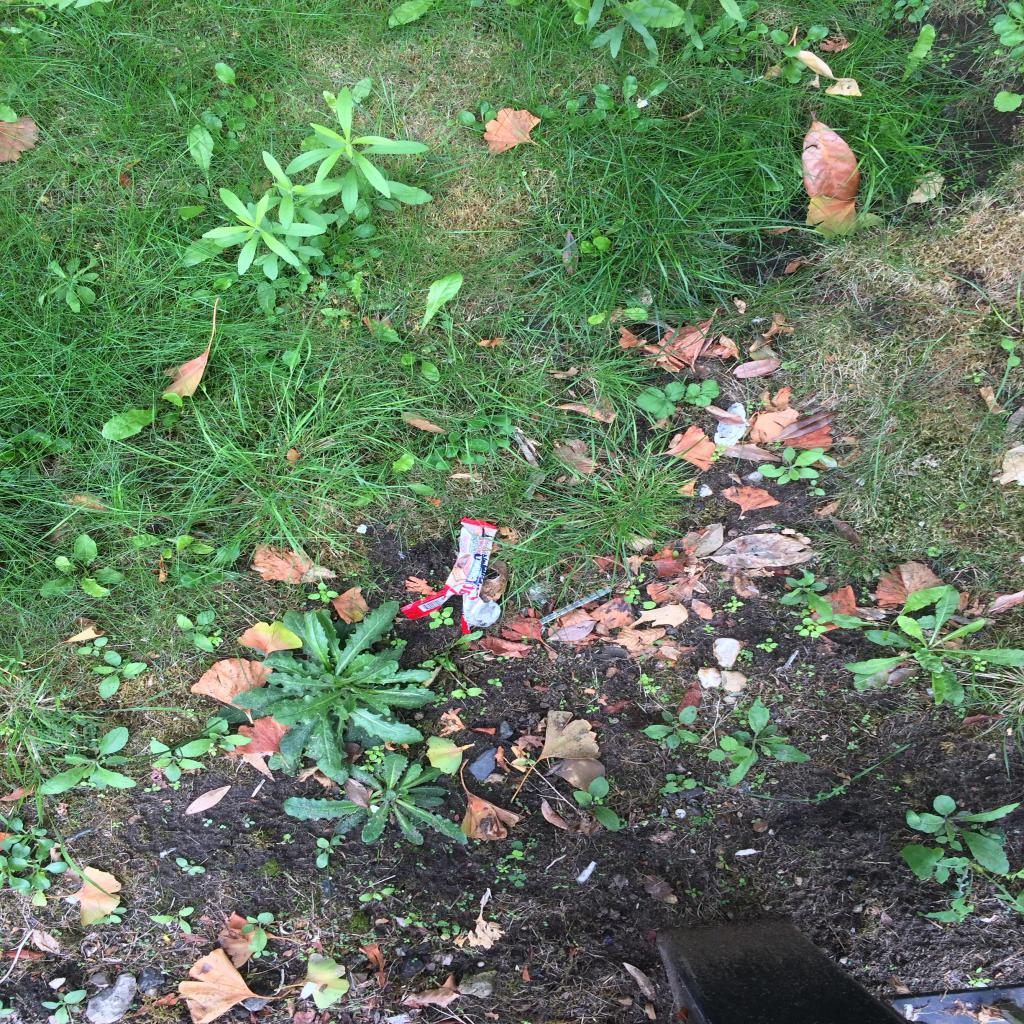Other plastic: (400, 516, 501, 634)
Plastic film: (538, 586, 612, 625)
